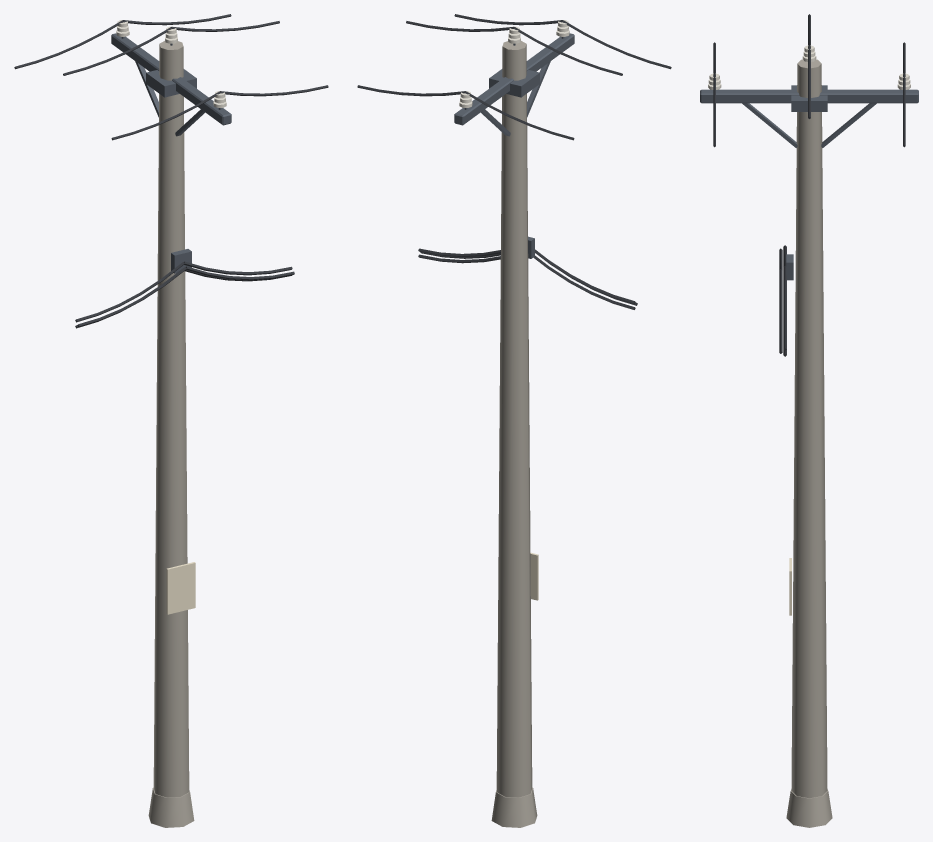
Rendered from power_pole.glb.
3 views of the same model, side by side, from view 1: azimuth 30°, elevation 25°; view 2: azimuth 150°, elevation 25°; view 3: azimuth 270°, elevation 25° (orthographic). The views are drawn at different scales.
Visible parts, largest first — view 1: power_pole; view 2: power_pole; view 3: power_pole.
Part boxes in pixels (x1,y1,x2,y2): power_pole: (14,14,328,827); power_pole: (357,14,671,827); power_pole: (700,14,918,827).
Size of the model in its own units: 2 by 7.01 by 1.8.
